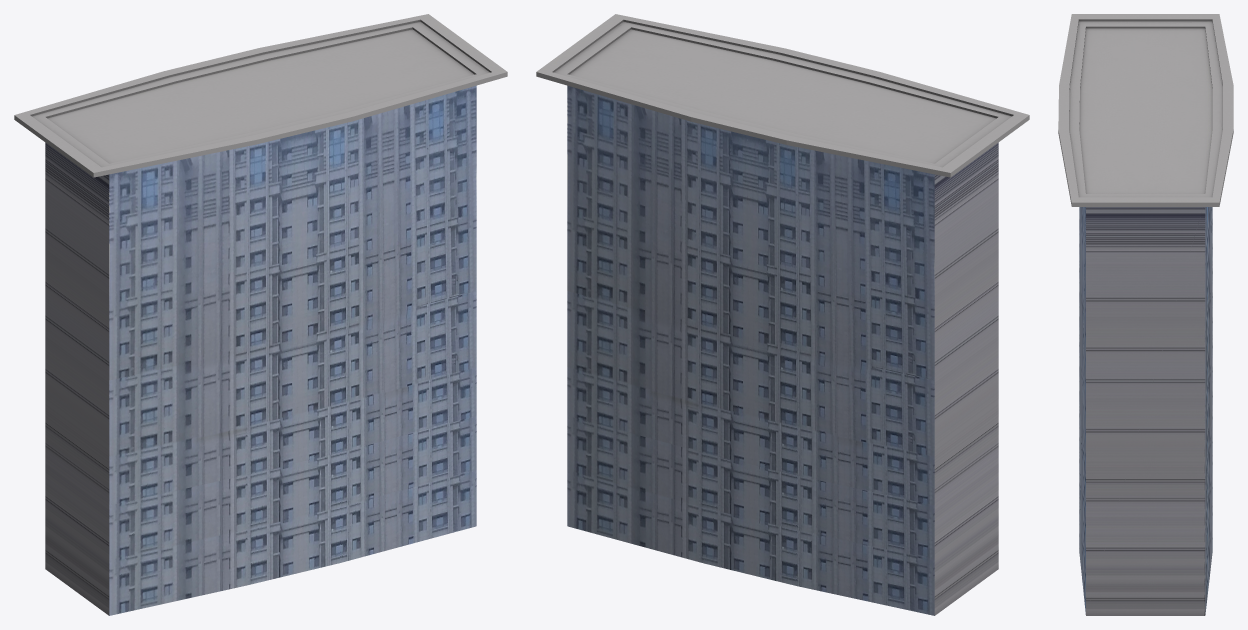
File: BLD-Type-4.FBX
The picture shows the model from 3 angles, left to right: view 1: azimuth 30°, elevation 25°; view 2: azimuth 150°, elevation 25°; view 3: azimuth 270°, elevation 25°; orthographic projection. The views are drawn at different scales.
Visible parts, largest first — view 1: BLD-Type-4; view 2: BLD-Type-4; view 3: BLD-Type-4.
Boxes of the visible parts, left/top/right/bottom form: BLD-Type-4: left=14, top=14, right=507, bottom=615; BLD-Type-4: left=536, top=14, right=1029, bottom=615; BLD-Type-4: left=1058, top=14, right=1233, bottom=615.
Size of the model in its own units: 52.46 by 54.95 by 20.58.
